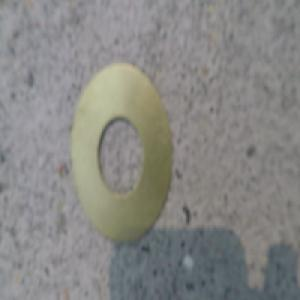Washer: (70, 63, 175, 254)
